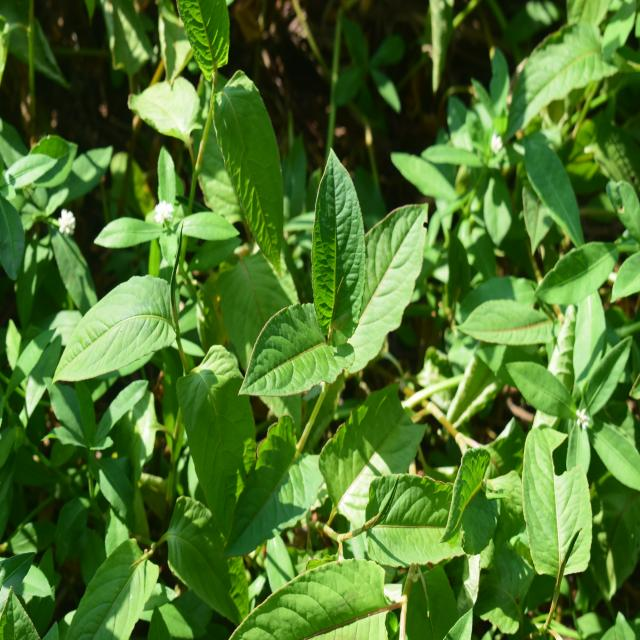Chinese_knotweed: (261, 167, 439, 450), (288, 449, 508, 640)
